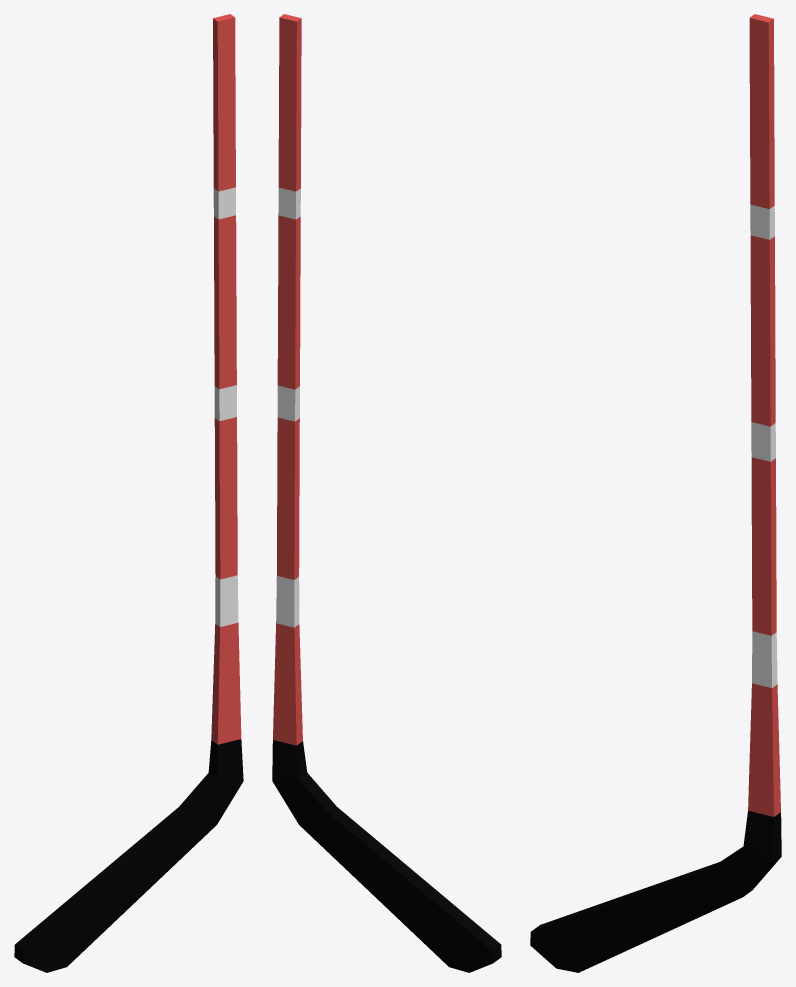
Rendered from Hockey_Player_1_Stick.fbx.
The picture shows the model from 3 angles, left to right: view 1: azimuth 30°, elevation 25°; view 2: azimuth 150°, elevation 25°; view 3: azimuth 330°, elevation 25°; orthographic projection. The views are drawn at different scales.
Parts seen in each view (by area): view 1: Hockey_Player_1_Stick; view 2: Hockey_Player_1_Stick; view 3: Hockey_Player_1_Stick.
Boxes of the visible parts, x1,y1,x2,y2 form: Hockey_Player_1_Stick: [14, 14, 243, 972]; Hockey_Player_1_Stick: [272, 14, 501, 972]; Hockey_Player_1_Stick: [530, 14, 781, 972].
Size of the model in its own units: 37.84 by 149 by 2.57.
